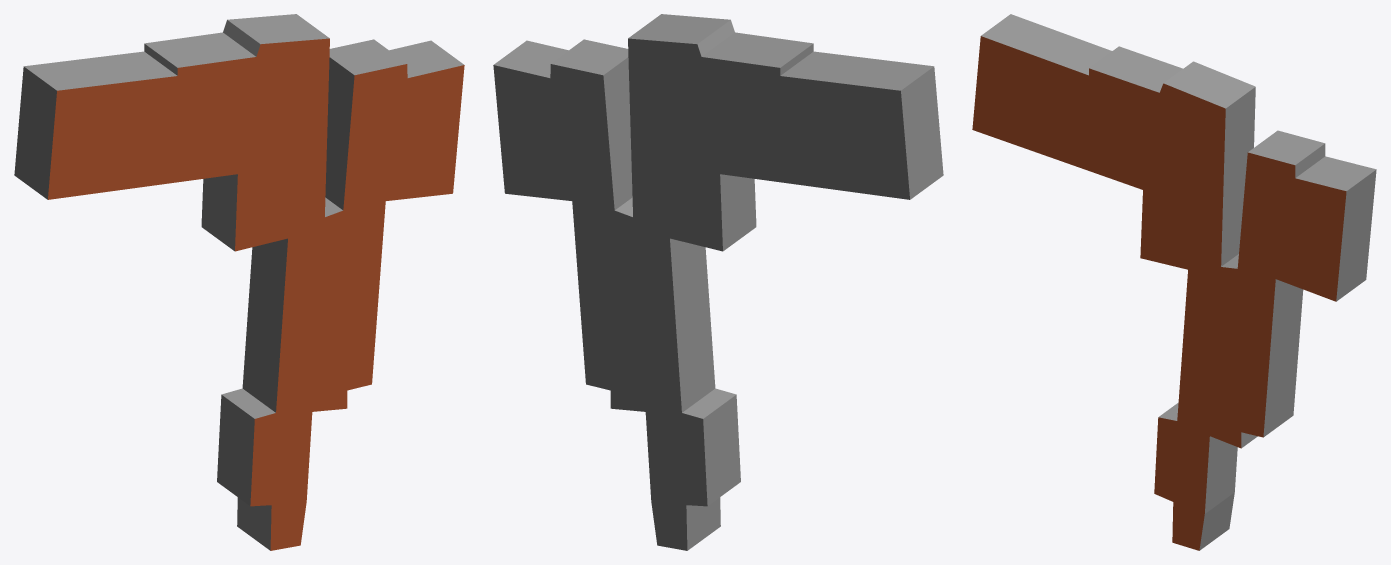
Rendered from construction_2370_assumed_A_Casa_h6m.obj.
3 renders of one model, left to right at view 1: azimuth 30°, elevation 25°; view 2: azimuth 150°, elevation 25°; view 3: azimuth 330°, elevation 25°, orthographic. The views are drawn at different scales.
Parts seen in each view (by area): view 1: construction_2370_assumed_A_Casa; view 2: construction_2370_assumed_A_Casa; view 3: construction_2370_assumed_A_Casa.
Boxes of the visible parts, bbox=[...] form: construction_2370_assumed_A_Casa: bbox=[14, 14, 464, 550]; construction_2370_assumed_A_Casa: bbox=[493, 14, 943, 550]; construction_2370_assumed_A_Casa: bbox=[972, 14, 1376, 550].
Size of the model in its own units: 43.16 by 50.88 by 6.
